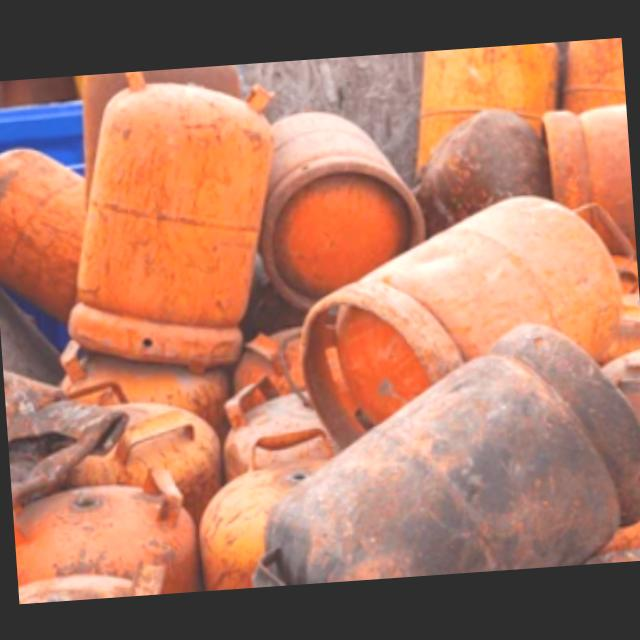Cylinders: (295, 191, 627, 444), (61, 68, 280, 373)
